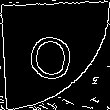O_N: (32, 28, 78, 82)
